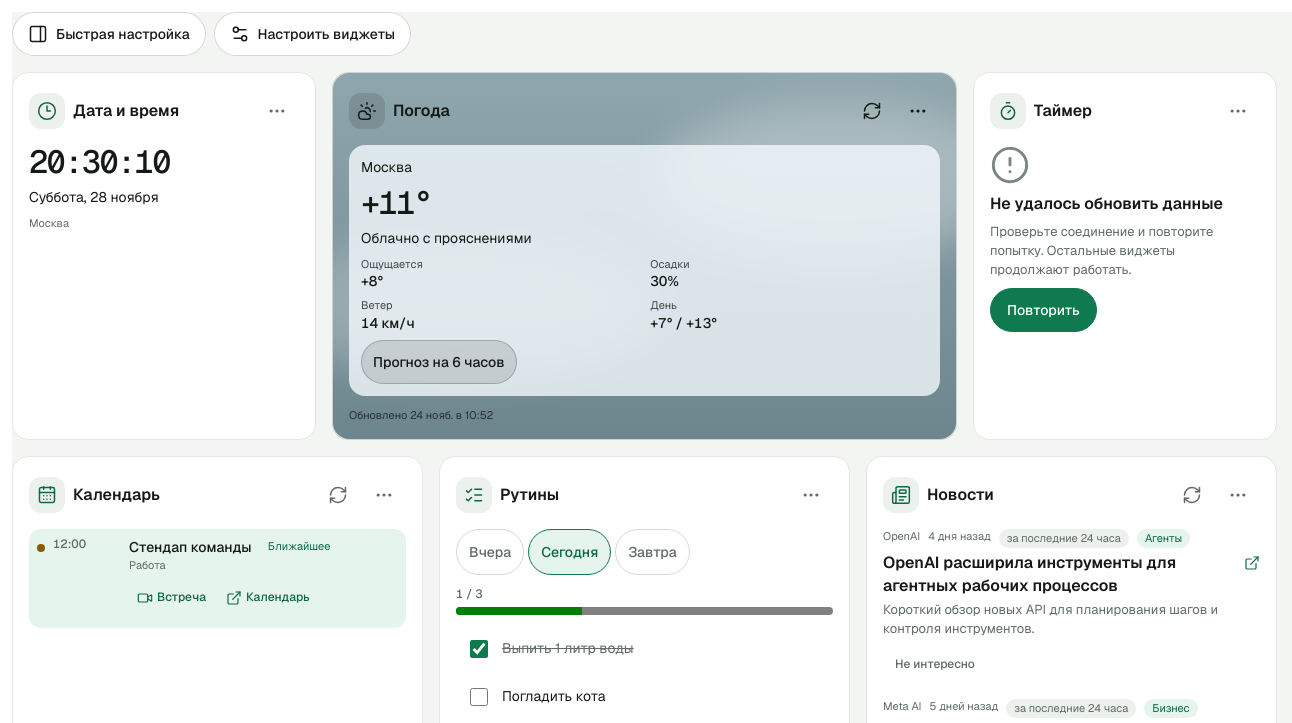
Test: страница дашборда › повторяет загрузку одного виджета, не меняя остальные
The width and height of the screenshot is (1292, 723).
Check: the element "Погода" shows "Москва", box x1=361 y1=158 x2=412 y2=176
Click the button "Повторить": (1043, 310) x1=990 y1=288 x2=1096 y2=332
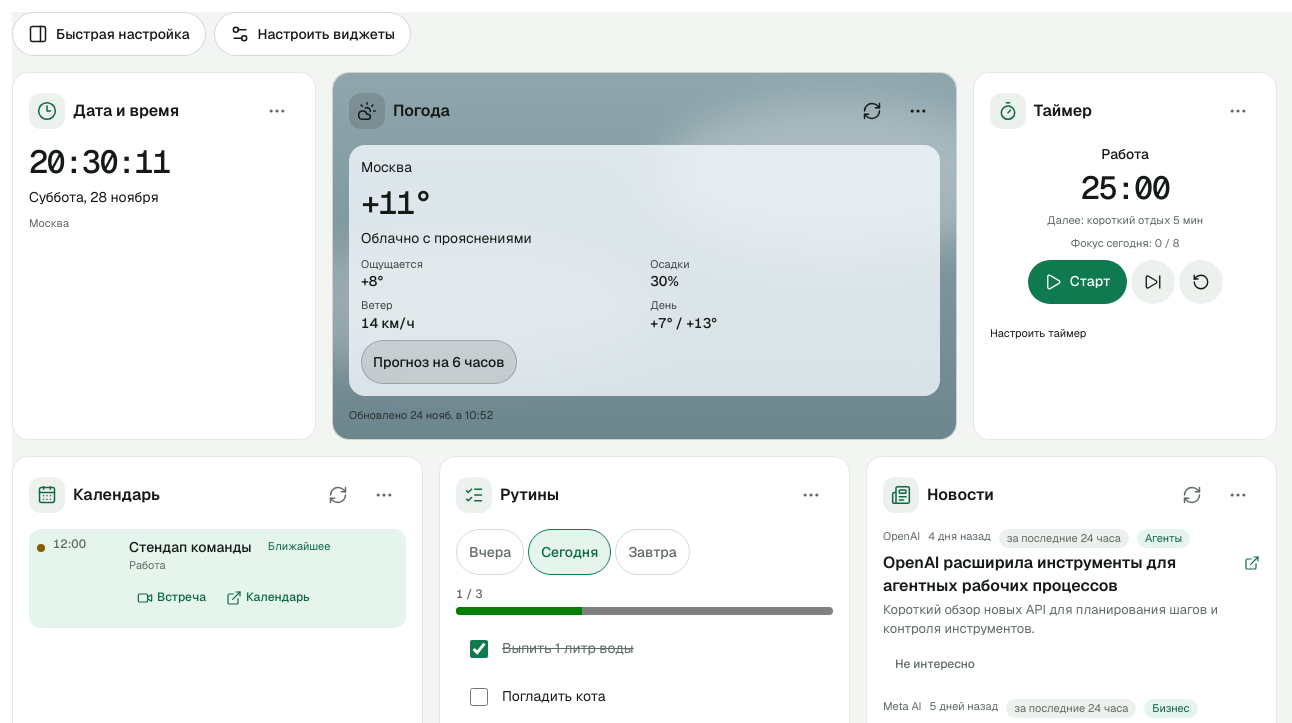
Check: the element "Погода" shows "Москва", box x1=361 y1=158 x2=412 y2=176
Check: the element "Таймер" has attribute data-status="success", box x1=973 y1=72 x2=1277 y2=440
